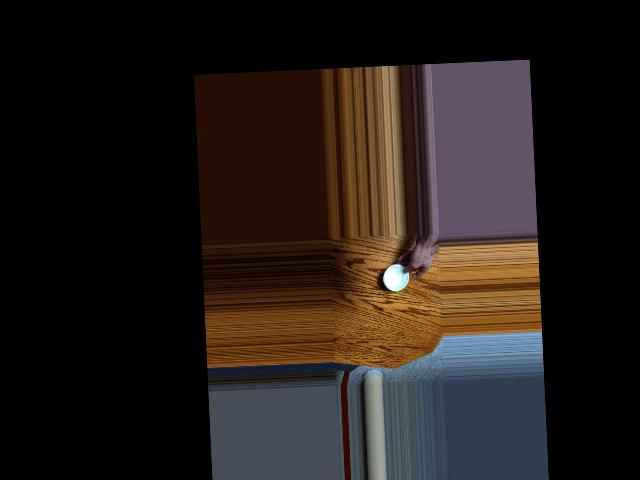cotage: (382, 262, 411, 291)
